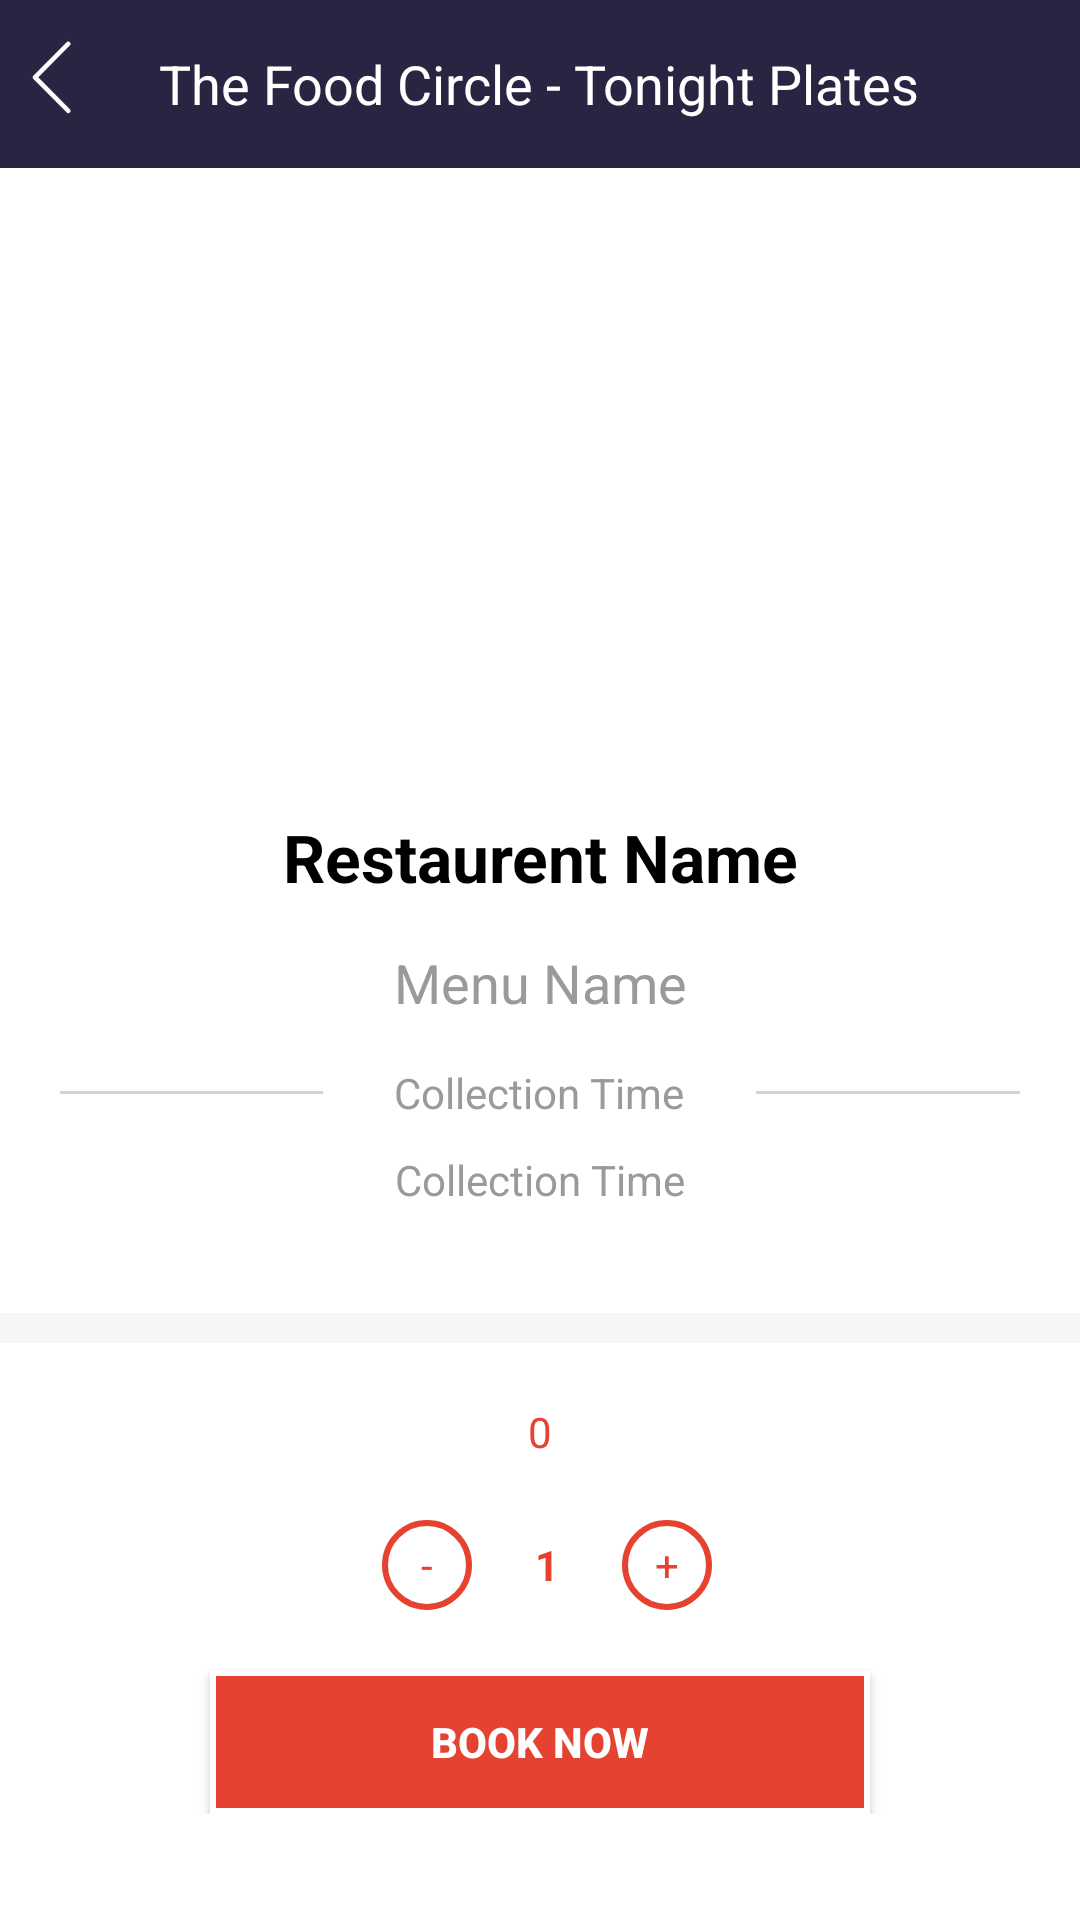

Screen size 1080 x 1920. Icon name, then its center in pixels as point (x, y):
back: point (51, 77)
